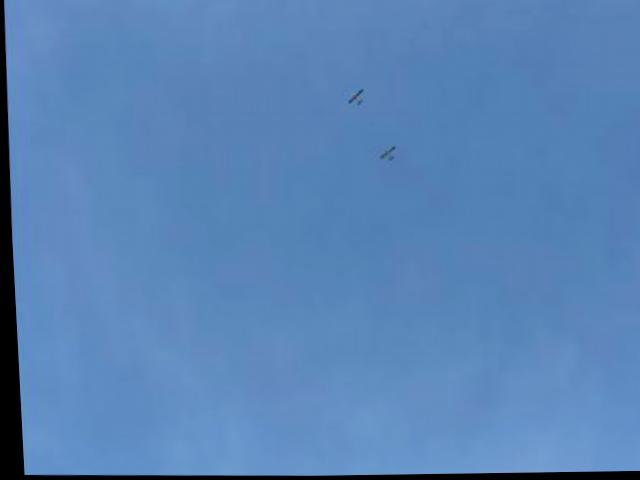uav: (345, 84, 366, 111), (377, 143, 395, 163)
